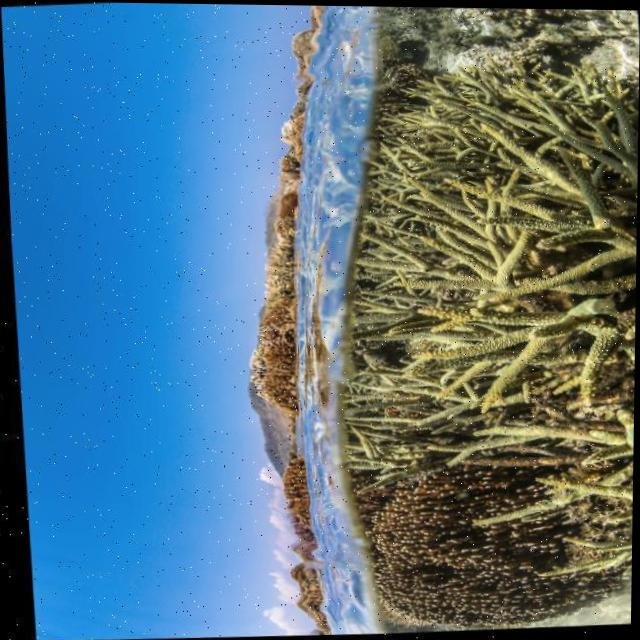Healthy Coral: (345, 90, 639, 614)
